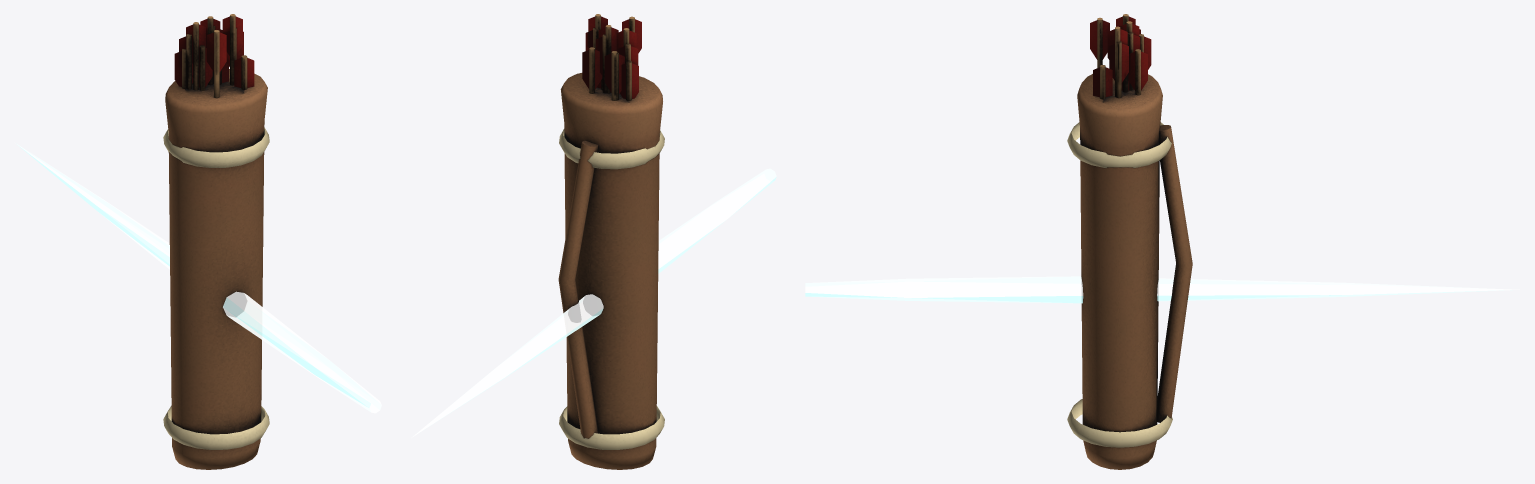
Rendered from arma_aljava_excelente.glb.
3 renders of one model, left to right at view 1: azimuth 30°, elevation 25°; view 2: azimuth 150°, elevation 25°; view 3: azimuth 270°, elevation 25°, orthographic.
Visible parts, largest first — view 1: arma_aljava_excelente, gema_aljava; view 2: arma_aljava_excelente, gema_aljava; view 3: arma_aljava_excelente, gema_aljava.
Boxes of the visible parts, x1=… form: arma_aljava_excelente: x1=163, y1=14, x2=269, y2=469; gema_aljava: x1=15, y1=143, x2=381, y2=413; arma_aljava_excelente: x1=558, y1=14, x2=664, y2=469; gema_aljava: x1=411, y1=168, x2=776, y2=437; arma_aljava_excelente: x1=1067, y1=14, x2=1192, y2=469; gema_aljava: x1=805, y1=276, x2=1519, y2=303.
Bounding box in the file's own units: 0.15 × 0.6655 × 1.
2 materials, 1 textured.
